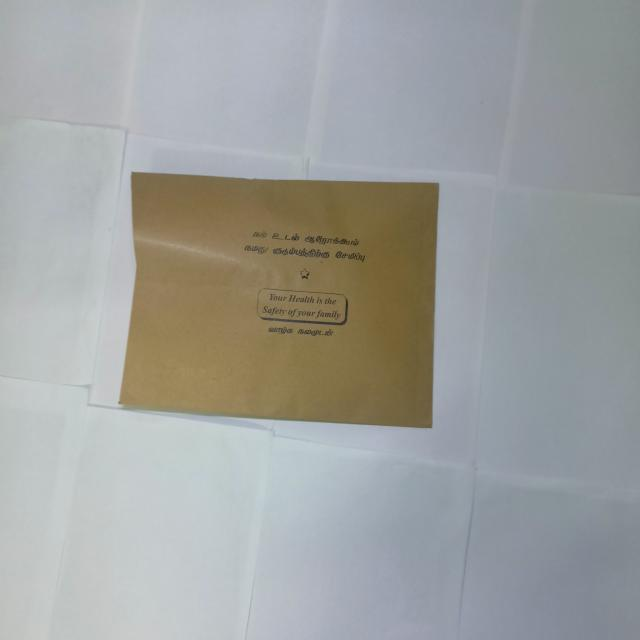box: (95, 174, 442, 433)
